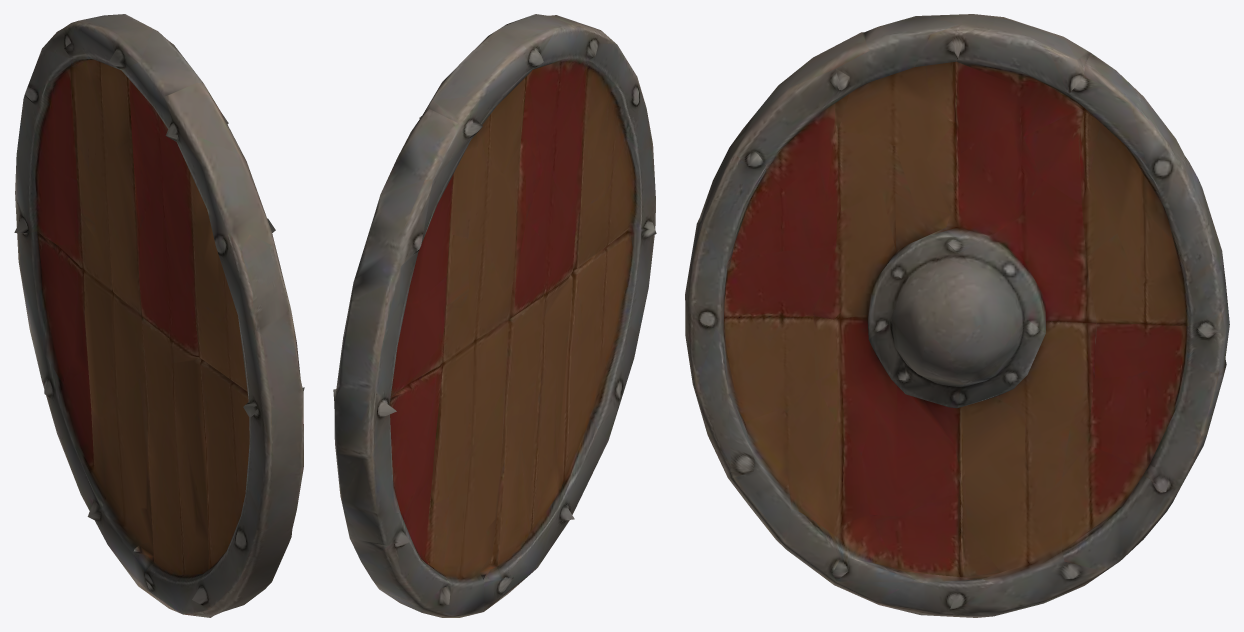
File: model-prop-wooden-shield-01.glb
The picture shows the model from 3 angles, left to right: view 1: azimuth 30°, elevation 25°; view 2: azimuth 150°, elevation 25°; view 3: azimuth 270°, elevation 25°; orthographic projection.
Visible parts, largest first — view 1: tripo_node_769205ce-7caf-4352-bc78-0e055f79e9df; view 2: tripo_node_769205ce-7caf-4352-bc78-0e055f79e9df; view 3: tripo_node_769205ce-7caf-4352-bc78-0e055f79e9df.
Boxes of the visible parts, box(x1,y1,x2,y2) form: tripo_node_769205ce-7caf-4352-bc78-0e055f79e9df: box(14, 14, 304, 617); tripo_node_769205ce-7caf-4352-bc78-0e055f79e9df: box(333, 14, 656, 617); tripo_node_769205ce-7caf-4352-bc78-0e055f79e9df: box(685, 14, 1229, 617).
Size of the model in its own units: 0.1257 by 0.6 by 0.5103.
1 material, 1 textured.
